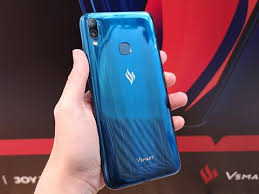vsmart: (70, 10, 182, 188)
